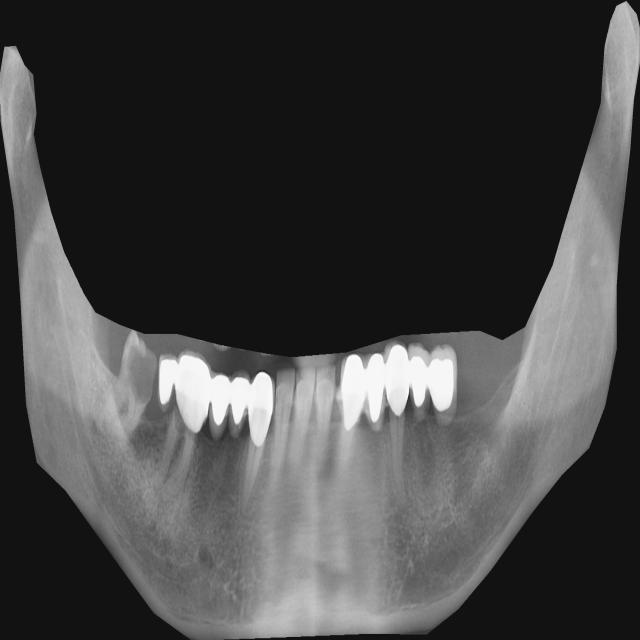mandibula: (0, 1, 640, 640)
